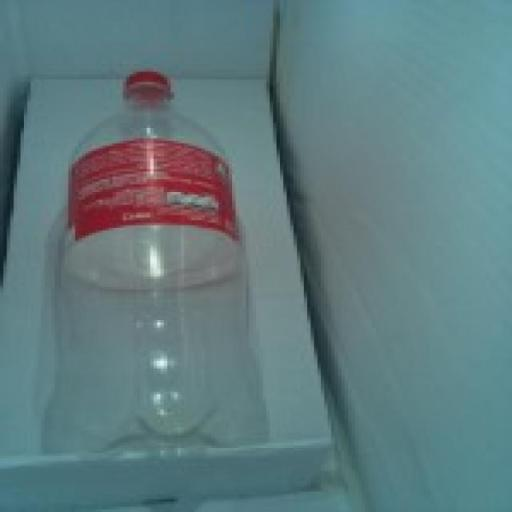plastic: (40, 64, 291, 473)
